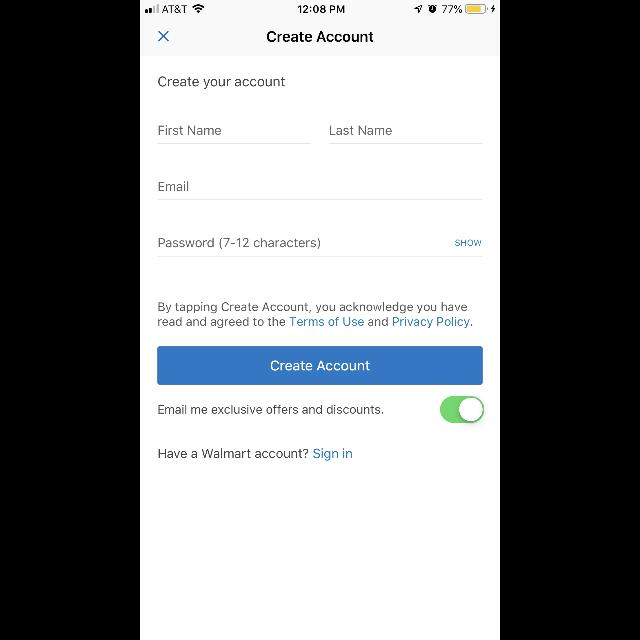icon: (158, 30, 170, 42)
input: (158, 238, 482, 256), (158, 182, 482, 200), (329, 126, 483, 144), (157, 126, 311, 144)
switch: (440, 396, 484, 422)
text: (159, 302, 473, 328), (158, 448, 352, 460), (158, 404, 384, 414), (158, 237, 320, 249), (159, 76, 285, 90), (267, 32, 373, 42), (159, 125, 221, 135), (330, 126, 392, 134), (159, 181, 189, 191), (455, 240, 481, 246)
textbutton: (158, 347, 482, 385)
uppertaskbar: (140, 0, 500, 14)
